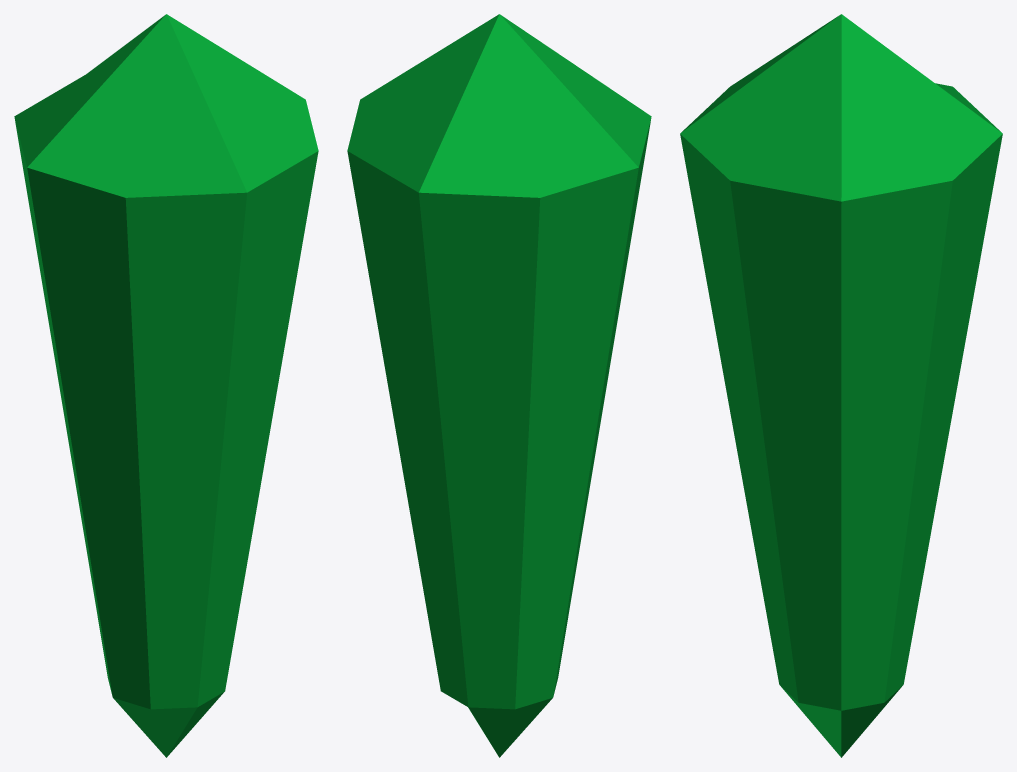
File: STONE_BARRER (1).fbx
3 renders of one model, left to right at view 1: azimuth 30°, elevation 25°; view 2: azimuth 150°, elevation 25°; view 3: azimuth 270°, elevation 25°, orthographic.
Parts seen in each view (by area): view 1: Cube; view 2: Cube; view 3: Cube.
Boxes of the visible parts, x1,y1,x2,y2 form: Cube: [14, 14, 318, 757]; Cube: [347, 14, 651, 757]; Cube: [680, 14, 1002, 757].
Bounding box in the file's own units: 749 × 1912 × 752.
